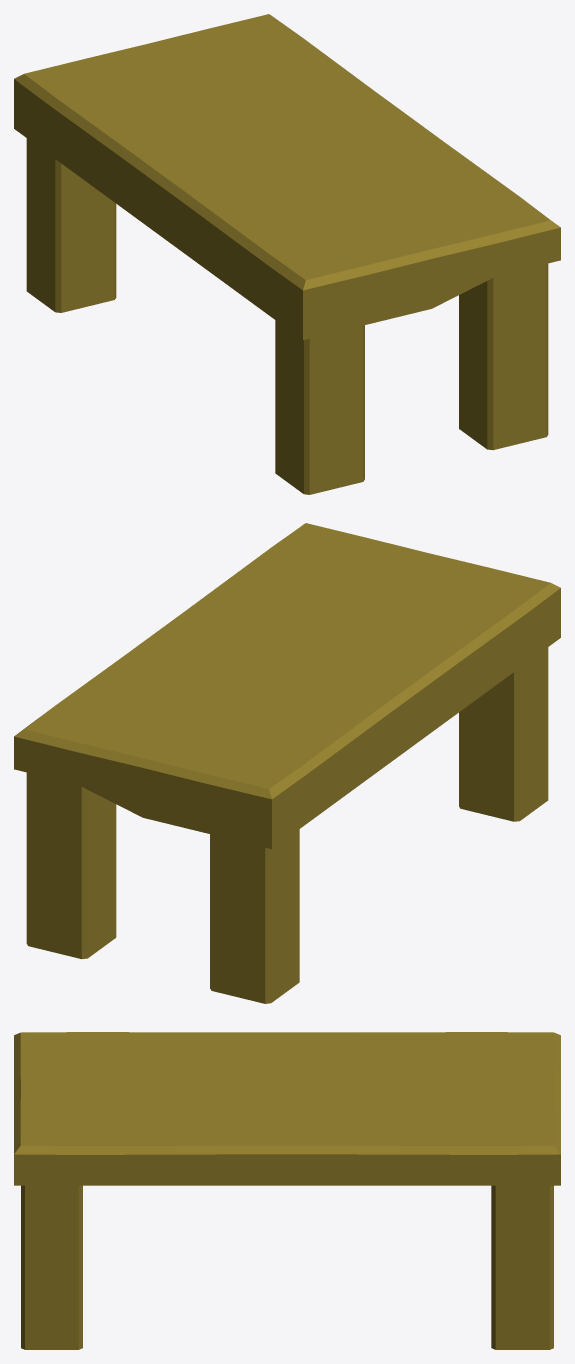
File: workbench.fbx
3 views of the same model, one above another, from view 1: azimuth 30°, elevation 25°; view 2: azimuth 150°, elevation 25°; view 3: azimuth 270°, elevation 25° (orthographic). The views are drawn at different scales.
Parts seen in each view (by area): view 1: pCube1; view 2: pCube1; view 3: pCube1.
Part boxes in pixels (box(x1,y1,x2,y2)): pCube1: box(14, 14, 560, 494); pCube1: box(14, 523, 560, 1003); pCube1: box(14, 1032, 560, 1349).
Size of the model in its own units: 1.94 by 1.55 by 3.76.
